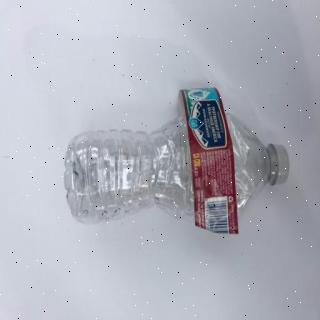Plastic-bottle: (64, 86, 292, 239)
